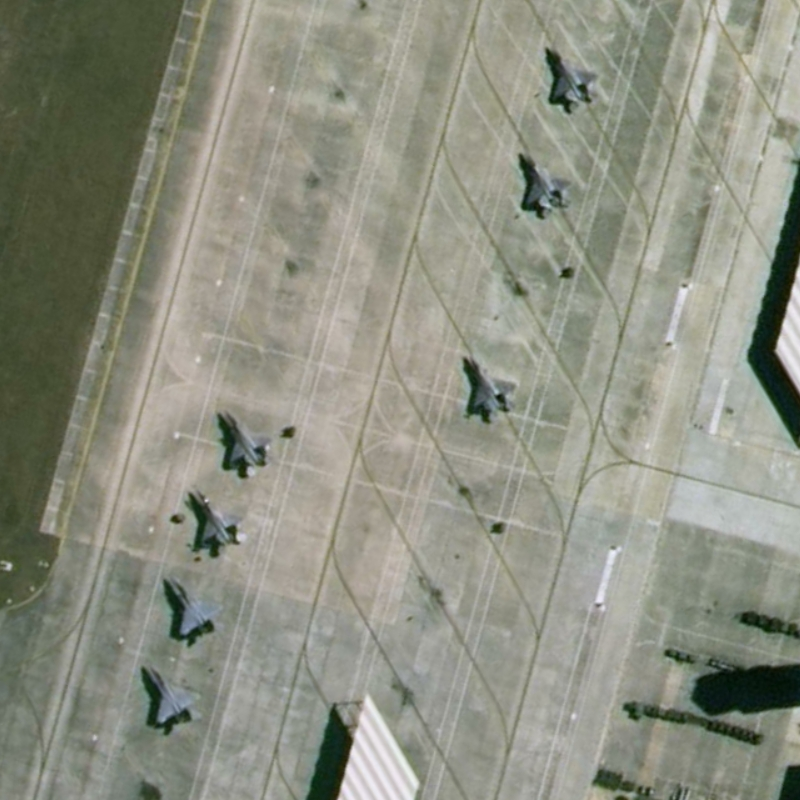A13: (185, 478, 248, 563), (220, 402, 282, 483), (143, 660, 206, 739), (165, 572, 223, 647)
A15: (456, 347, 522, 425), (541, 42, 604, 116), (518, 150, 577, 222)
